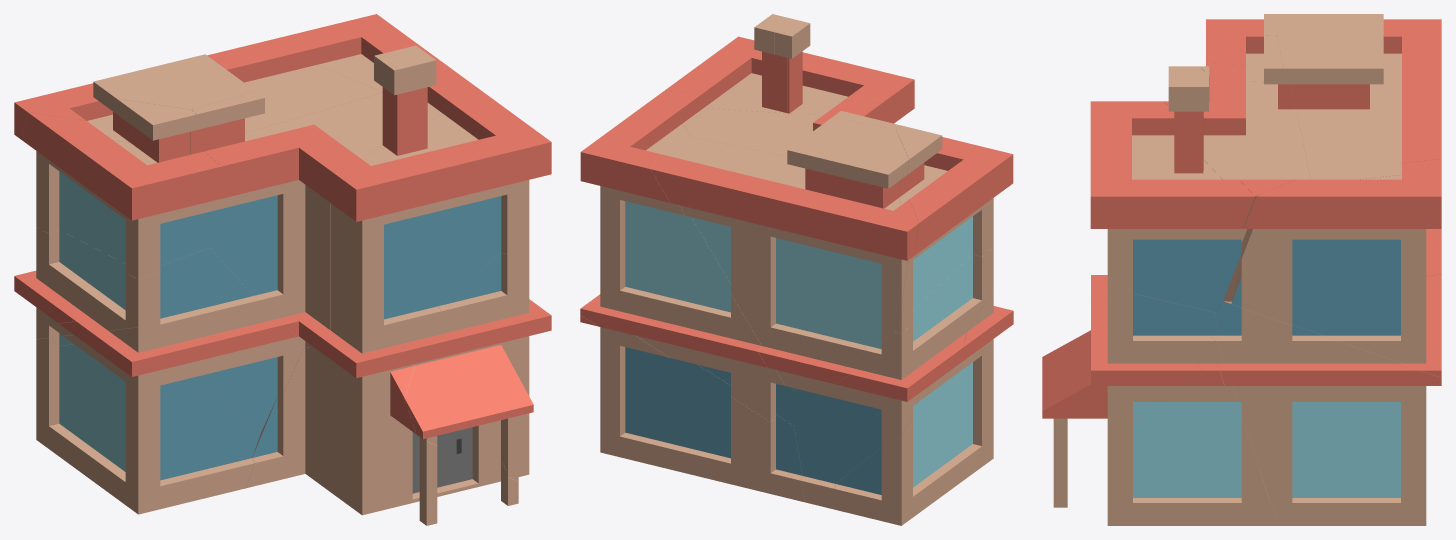
Rendered from House 3.2 Fractured.fbx.
3 renders of one model, left to right at view 1: azimuth 30°, elevation 25°; view 2: azimuth 150°, elevation 25°; view 3: azimuth 270°, elevation 25°, orthographic. The views are drawn at different scales.
Visible parts, largest first — view 1: House_Type3_2_Breaking_cell.007, House_Type3_2_Breaking_cell.009, House_Type3_2_Breaking_cell.002, House_Type3_2_Breaking_cell.006, House_Type3_2_Breaking_cell.001, House_Type3_2_Breaking_cell.005, House_Type3_2_Breaking_cell.004, House_Type3_2_Breaking_cell, House_Type3_2_Breaking_cell.008; view 2: House_Type3_2_Breaking_cell, House_Type3_2_Breaking_cell.008, House_Type3_2_Breaking_cell.003, House_Type3_2_Breaking_cell.001, House_Type3_2_Breaking_cell.009, House_Type3_2_Breaking_cell.005, House_Type3_2_Breaking_cell.007, House_Type3_2_Breaking_cell.002; view 3: House_Type3_2_Breaking_cell.003, House_Type3_2_Breaking_cell.008, House_Type3_2_Breaking_cell.007, House_Type3_2_Breaking_cell, House_Type3_2_Breaking_cell.006, House_Type3_2_Breaking_cell.004, House_Type3_2_Breaking_cell.002, House_Type3_2_Breaking_cell.005.
Part boxes in pixels (x1,y1,x2,y2): House_Type3_2_Breaking_cell.007: (320,45,551,378); House_Type3_2_Breaking_cell.009: (36,321,261,514); House_Type3_2_Breaking_cell.002: (190,51,468,351); House_Type3_2_Breaking_cell.006: (246,347,529,525); House_Type3_2_Breaking_cell.001: (14,227,303,431); House_Type3_2_Breaking_cell.005: (22,98,221,279); House_Type3_2_Breaking_cell.004: (381,236,551,481); House_Type3_2_Breaking_cell: (14,33,382,195); House_Type3_2_Breaking_cell.008: (300,14,468,91); House_Type3_2_Breaking_cell: (650,117,919,391); House_Type3_2_Breaking_cell.008: (580,91,793,425); House_Type3_2_Breaking_cell.003: (580,294,804,502); House_Type3_2_Breaking_cell.001: (794,247,993,504); House_Type3_2_Breaking_cell.009: (815,290,1013,525); House_Type3_2_Breaking_cell.005: (895,126,1013,333); House_Type3_2_Breaking_cell.007: (664,14,914,123); House_Type3_2_Breaking_cell.002: (665,32,902,155); House_Type3_2_Breaking_cell.003: (1215,301,1441,525); House_Type3_2_Breaking_cell.008: (1231,159,1441,377); House_Type3_2_Breaking_cell.007: (1090,66,1255,312); House_Type3_2_Breaking_cell: (1277,14,1441,275); House_Type3_2_Breaking_cell.006: (1053,327,1278,525); House_Type3_2_Breaking_cell.004: (1042,286,1216,485); House_Type3_2_Breaking_cell.002: (1164,35,1310,301); House_Type3_2_Breaking_cell.005: (1206,14,1414,82).
Size of the model in its own units: 664 by 713 by 632.
